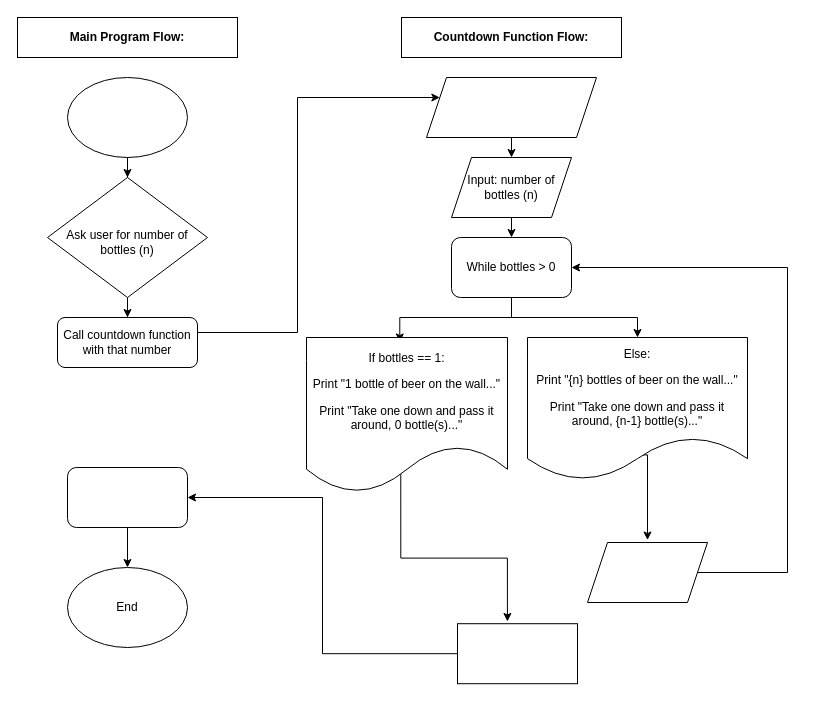
Image size: 813x702. Some labels were removed from this diagram. The centre of each missing label's shape, as x and y in pixels:
Countdown Function: (511,107)
Decrement bottle count: (647,572)
Display "Time to buy more bottles of beer.": (127,497)
Return to main: (517,653)
Start: (127,117)
